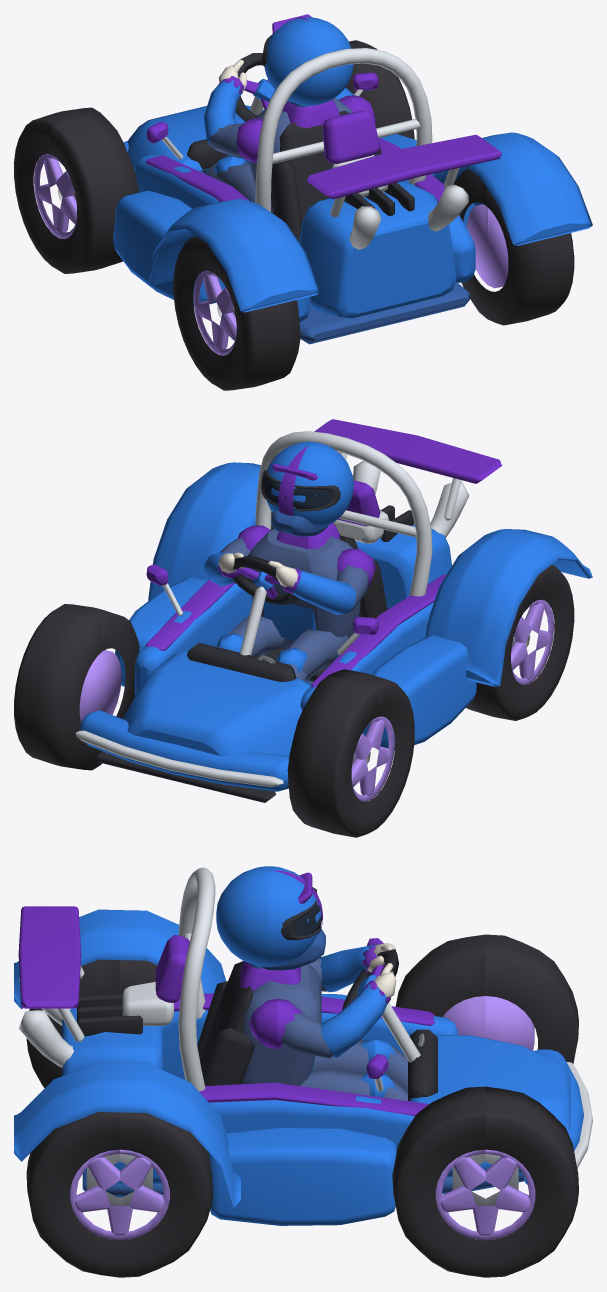
File: kart_1.glb
3 views of the same model, one above another, from view 1: azimuth 30°, elevation 25°; view 2: azimuth 150°, elevation 25°; view 3: azimuth 270°, elevation 25° (orthographic). The views are drawn at different scales.
Parts seen in each view (by area): view 1: bodyPaint, bodyFenders, WheelFL_tyre, WheelRL_tyre, WheelRR_tyre, bodyChrome, bodyPlastic, driverHelmet, driverArms, driverTorso, WheelFR_tyre, steeringWheel; view 2: bodyPaint, bodyFenders, WheelFL_tyre, WheelFR_tyre, bodyChrome, driverTorso, WheelRL_tyre, driverHelmet, bodyPlastic, driverArms, steeringWheel, driverVisor; view 3: bodyPaint, WheelFR_tyre, WheelRR_tyre, bodyFenders, WheelFL_tyre, bodyChrome, driverTorso, bodyPlastic, driverHelmet, driverArms, WheelRL_tyre, steeringWheel (+1 smaller).
Boxes of the visible parts, x1,y1,x2,y2 form: bodyPaint: (113,72,501,322); bodyFenders: (148,132,592,312); WheelFL_tyre: (14,107,138,273); WheelRL_tyre: (173,236,300,390); WheelRR_tyre: (453,169,574,325); bodyChrome: (162,48,468,249); bodyPlastic: (187,110,470,344); driverHelmet: (261,14,353,105); driverArms: (203,59,375,162); driverTorso: (207,98,352,213); WheelFR_tyre: (346,40,414,139); steeringWheel: (235,53,275,121); bodyPaint: (80,419,501,791); bodyFenders: (148,462,592,687); WheelFL_tyre: (287,669,414,837); WheelFR_tyre: (14,604,139,770); bodyChrome: (75,431,469,786); driverTorso: (216,523,360,681); WheelRL_tyre: (466,565,574,720); driverHelmet: (261,441,353,536); bodyPlastic: (96,505,414,802); driverArms: (203,525,375,614); steeringWheel: (232,556,299,604); driverVisor: (263,475,331,508); bodyPaint: (18,906,583,1225); WheelFR_tyre: (392,1086,578,1277); WheelRR_tyre: (26,1112,212,1277); bodyFenders: (14,909,240,1208); WheelFL_tyre: (395,934,578,1063); bodyChrome: (19,867,592,1168); driverTorso: (240,961,407,1100); bodyPlastic: (77,961,524,1198); driverHelmet: (216,866,325,970); driverArms: (249,943,396,1058); WheelRL_tyre: (26,959,157,1088); steeringWheel: (342,949,398,1009).
Bounding box in the file's own units: 1.86 × 1.43 × 2.31.
